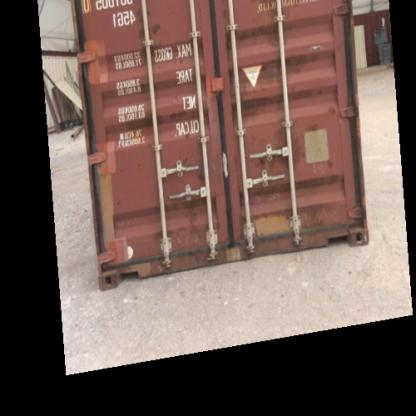Damage: (244, 120, 313, 164), (240, 208, 334, 234)
